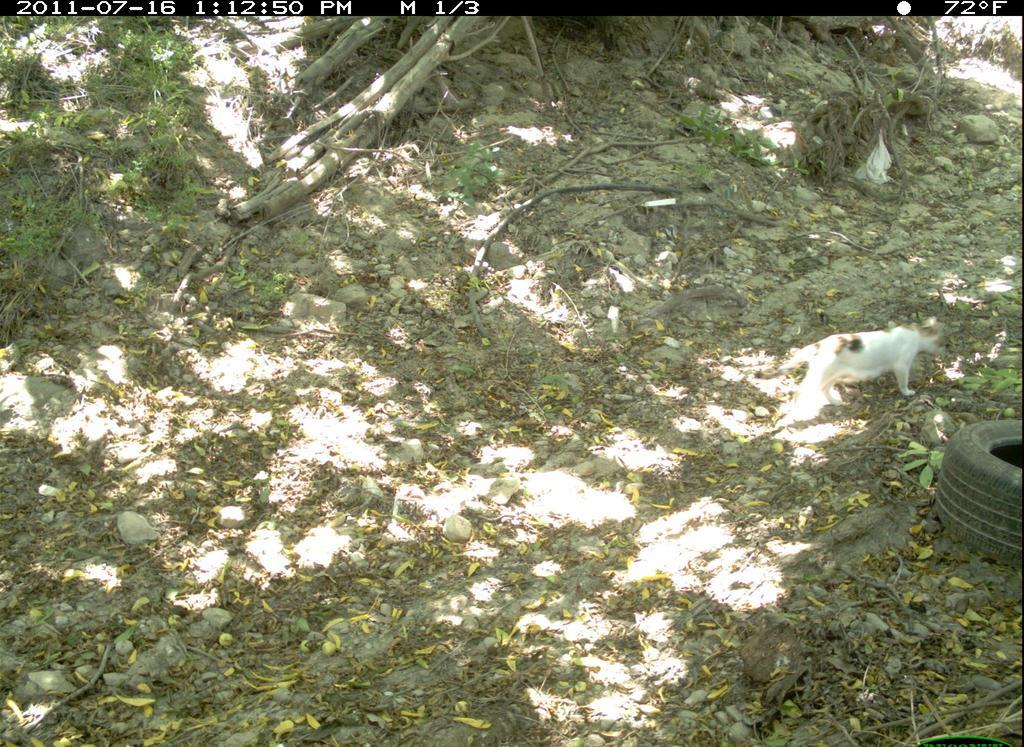cat: (748, 313, 953, 425)
